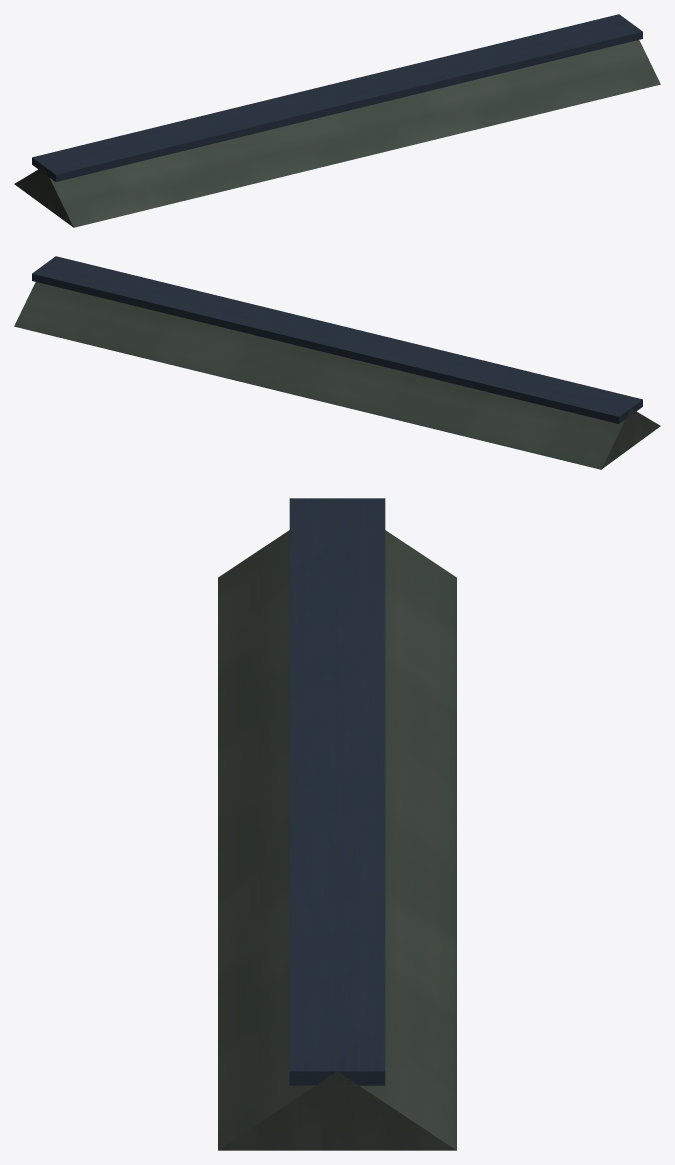
The model's file is house_05_roof_ridge.glb.
3 views of the same model, one above another, from view 1: azimuth 30°, elevation 25°; view 2: azimuth 150°, elevation 25°; view 3: azimuth 270°, elevation 25° (orthographic). The views are drawn at different scales.
Parts seen in each view (by area): view 1: outdoor_house_05_roof_ridge; view 2: outdoor_house_05_roof_ridge; view 3: outdoor_house_05_roof_ridge.
Boxes of the visible parts, bbox=[...] form: outdoor_house_05_roof_ridge: bbox=[14, 14, 660, 227]; outdoor_house_05_roof_ridge: bbox=[14, 256, 660, 469]; outdoor_house_05_roof_ridge: bbox=[218, 498, 456, 1150].
Bounding box in the file's own units: 3.4 × 0.22 × 0.6.
Materials: 1 (1 with a texture image).
